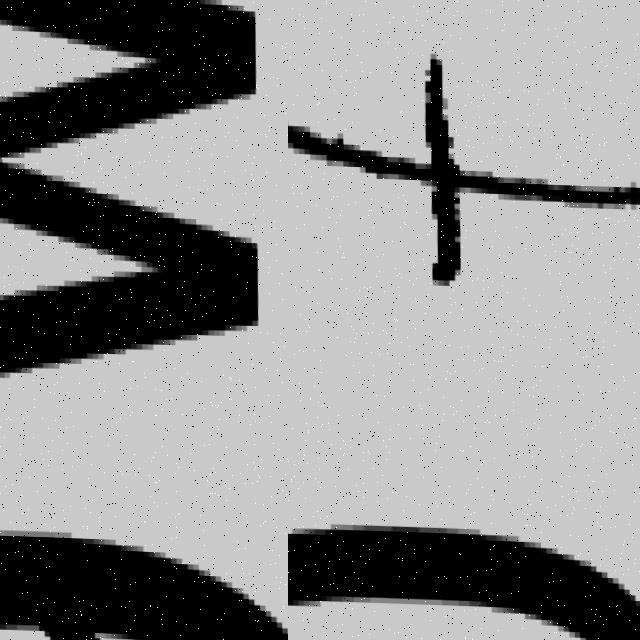0: (288, 511, 640, 640)
9: (0, 523, 288, 640)
F: (288, 59, 640, 286)
W: (0, 0, 277, 428)
